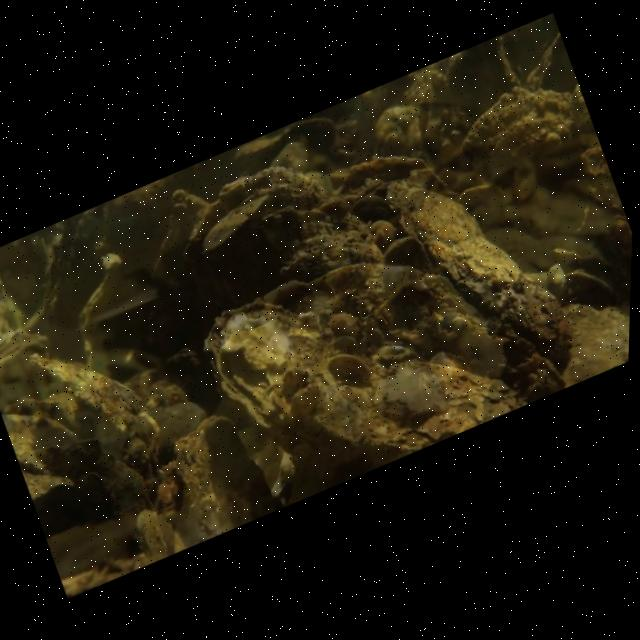Oyster-Closed: (199, 255, 525, 462), (388, 176, 576, 376), (182, 162, 335, 310), (164, 413, 285, 554), (27, 348, 163, 438), (71, 255, 125, 366)
Oyster-Indeterminate: (18, 434, 167, 598), (463, 82, 577, 182), (259, 196, 390, 280), (336, 151, 462, 202), (231, 129, 293, 167)
